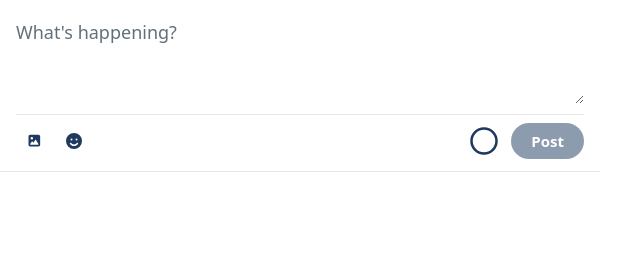
Composer — LIVE mode › keeps the draft and offers Retry when the publish fails; Retry re-sends it
The image size is (617, 259).
In the text box named "Post text": (300,58) [16,12,584,104], type "Roads are closed."
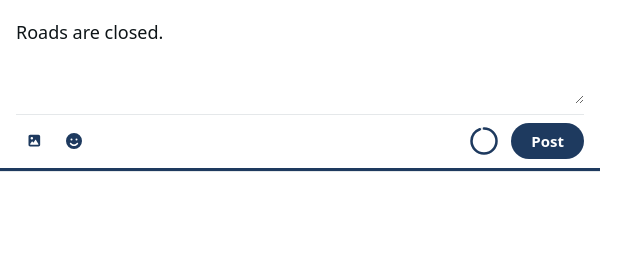
Click the button "Post": (548,141) [511,123,584,159]
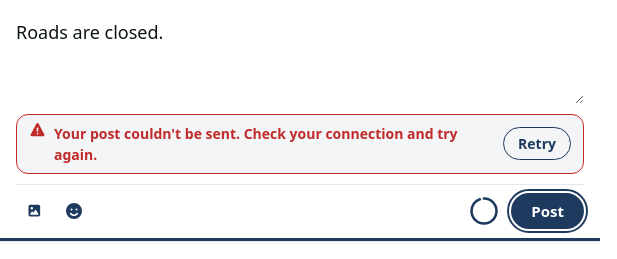
Click the button "Retry": (537,144) [503,127,571,160]
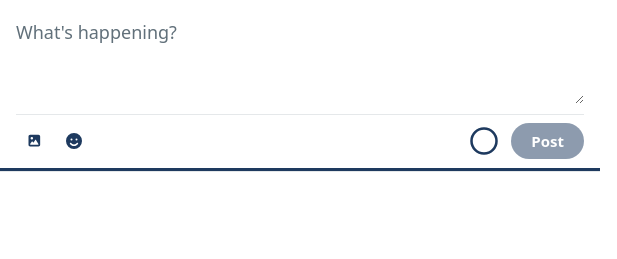
Expected: the message with test id "composer-publish-error" is gone
Expected: the text box named "Post text" is empty, [16,12,584,104]
